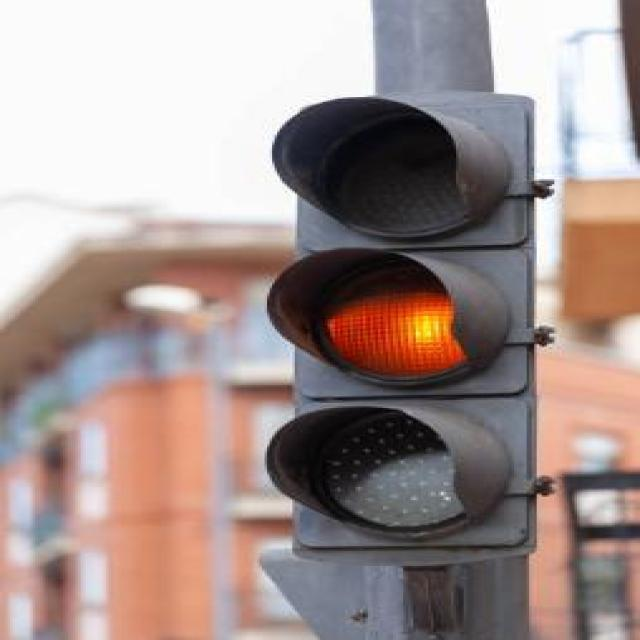yellow_light: (266, 92, 553, 566)
